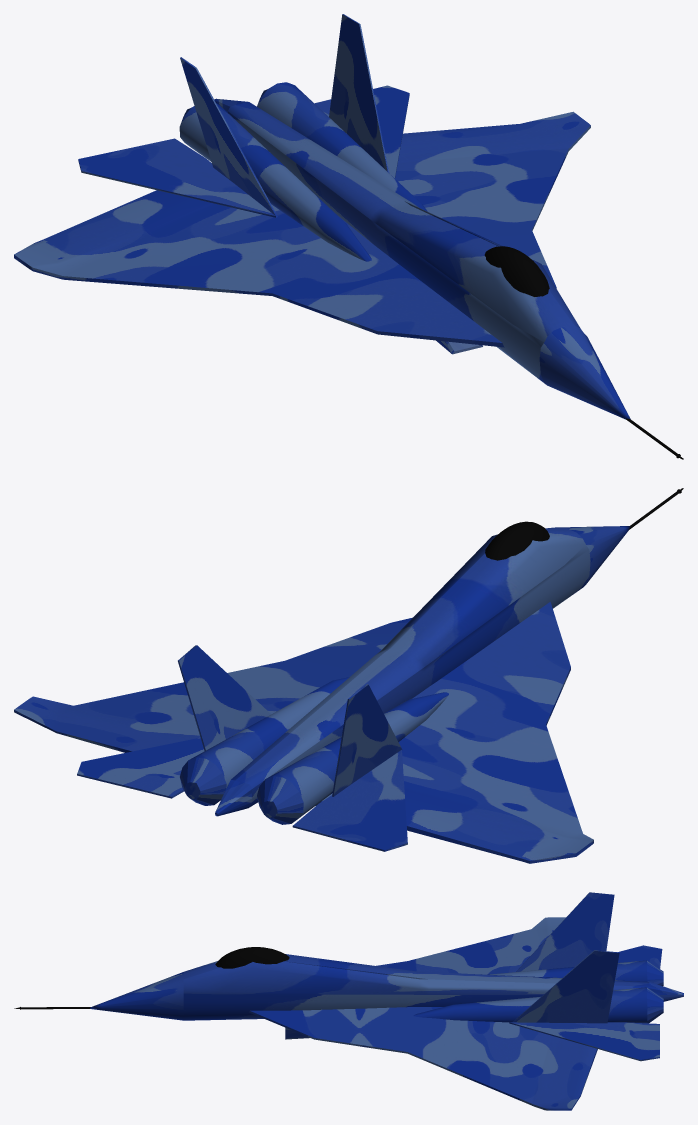
File: bigship1.obj
3 views of the same model, one above another, from view 1: azimuth 30°, elevation 25°; view 2: azimuth 150°, elevation 25°; view 3: azimuth 270°, elevation 25° (orthographic). The views are drawn at different scales.
Visible parts, largest first — view 1: group1 pCube2, pCylinder1 group1, group1 pCube1, group1 pCube6, group1 pCylinder4, group1 pCube4, group1 pCylinder5, group1 pCube5, group1 pCube3, group1 pSphere1; view 2: group1 pCube2, pCylinder1 group1, group1 pCube1, group1 pCube6, group1 pCylinder4, group1 pCylinder5, group1 pCube4, group1 pCube3, group1 pCube5, group1 pSphere1; view 3: pCylinder1 group1, group1 pCube1, group1 pCube4, group1 pCube2, group1 pCube5, group1 pCylinder5, group1 pCube3, group1 pCylinder4, group1 pSphere1, group1 pCube6.
Part boxes in pixels (box(x1,y1,x2,y2)): group1 pCube2: box(14, 190, 504, 347); pCylinder1 group1: box(214, 98, 630, 419); group1 pCube1: box(395, 111, 590, 288); group1 pCube6: box(78, 138, 275, 217); group1 pCylinder4: box(179, 103, 371, 261); group1 pCube4: box(329, 14, 388, 172); group1 pCylinder5: box(257, 82, 427, 211); group1 pCube5: box(180, 57, 277, 217); group1 pCube3: box(314, 85, 409, 178); group1 pSphere1: box(484, 246, 549, 296); group1 pCube2: box(316, 602, 593, 863); pCylinder1 group1: box(215, 526, 630, 816); group1 pCube1: box(14, 617, 412, 752); group1 pCube6: box(292, 750, 407, 851); group1 pCylinder4: box(257, 692, 448, 824); group1 pCylinder5: box(180, 677, 349, 805); group1 pCube4: box(178, 645, 271, 750); group1 pCube3: box(77, 737, 204, 798); group1 pCube5: box(332, 684, 402, 796); group1 pSphere1: box(485, 521, 549, 560); pCylinder1 group1: box(90, 954, 683, 1020); group1 pCube1: box(249, 1007, 597, 1110); group1 pCube4: box(513, 950, 619, 1023); group1 pCube2: box(376, 917, 565, 974); group1 pCube5: box(516, 892, 614, 971); group1 pCylinder5: box(413, 987, 663, 1023); group1 pCube3: box(509, 1022, 659, 1061); group1 pCylinder4: box(490, 960, 663, 986); group1 pSphere1: box(215, 947, 289, 968); group1 pCube6: box(618, 945, 662, 968).
Size of the model in its own units: 24.71 by 6.04 by 35.68.
